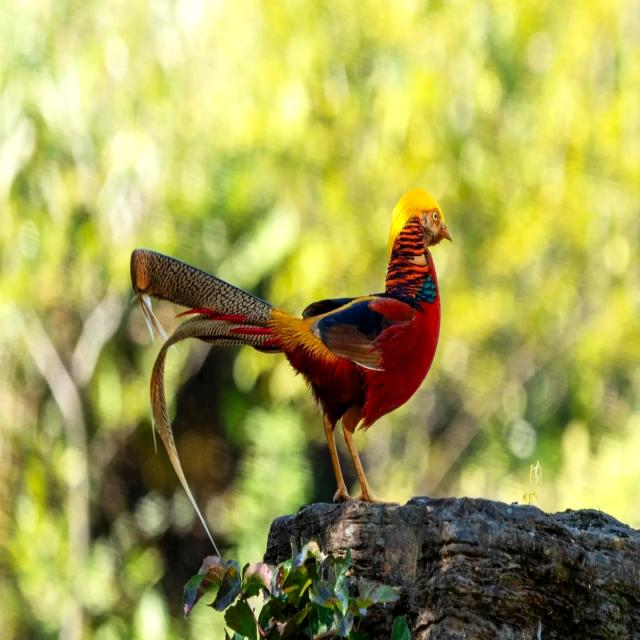Chrysolophus pictus feather: (131, 249, 284, 510)
